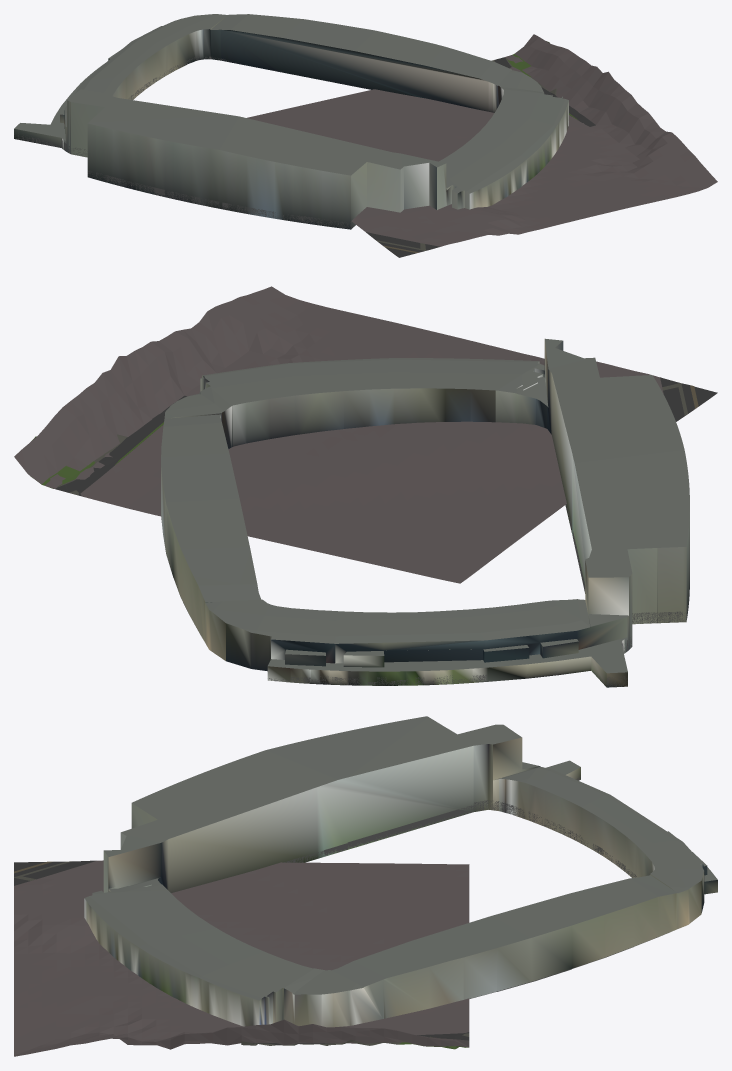
The picture shows the model from 3 angles, top to bottom: view 1: azimuth 30°, elevation 25°; view 2: azimuth 150°, elevation 25°; view 3: azimuth 270°, elevation 25°; orthographic projection. The views are drawn at different scales.
Parts seen in each view (by area): view 1: c_m13_m16; view 2: c_m13_m16; view 3: c_m13_m16.
Part boxes in pixels (box(x1,y1,x2,y2)): c_m13_m16: box(14, 14, 717, 257); c_m13_m16: box(14, 286, 717, 687); c_m13_m16: box(14, 716, 717, 1056).
Size of the model in its own units: 192 by 23.48 by 198.
